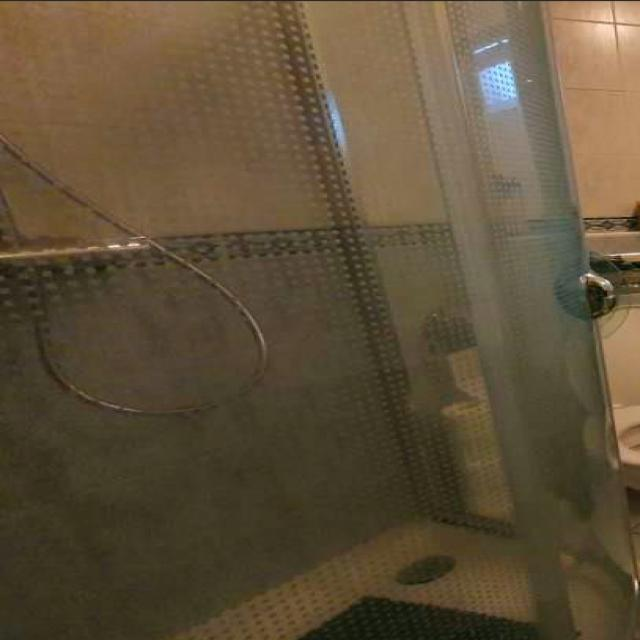douche: (0, 0, 640, 640)
toilet: (585, 250, 640, 490)
